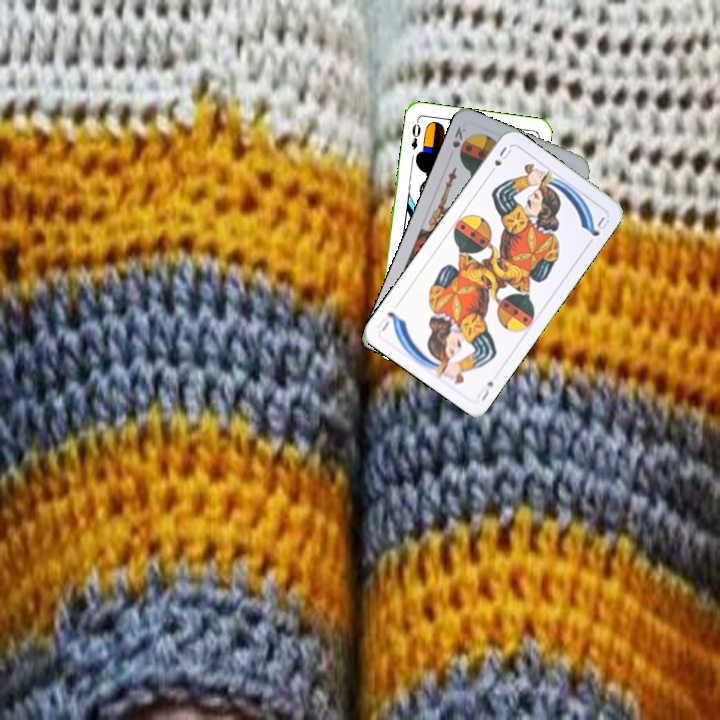EO: (407, 116, 423, 152)
SK: (448, 122, 468, 150)
SU: (484, 142, 514, 178), (472, 377, 496, 404)
